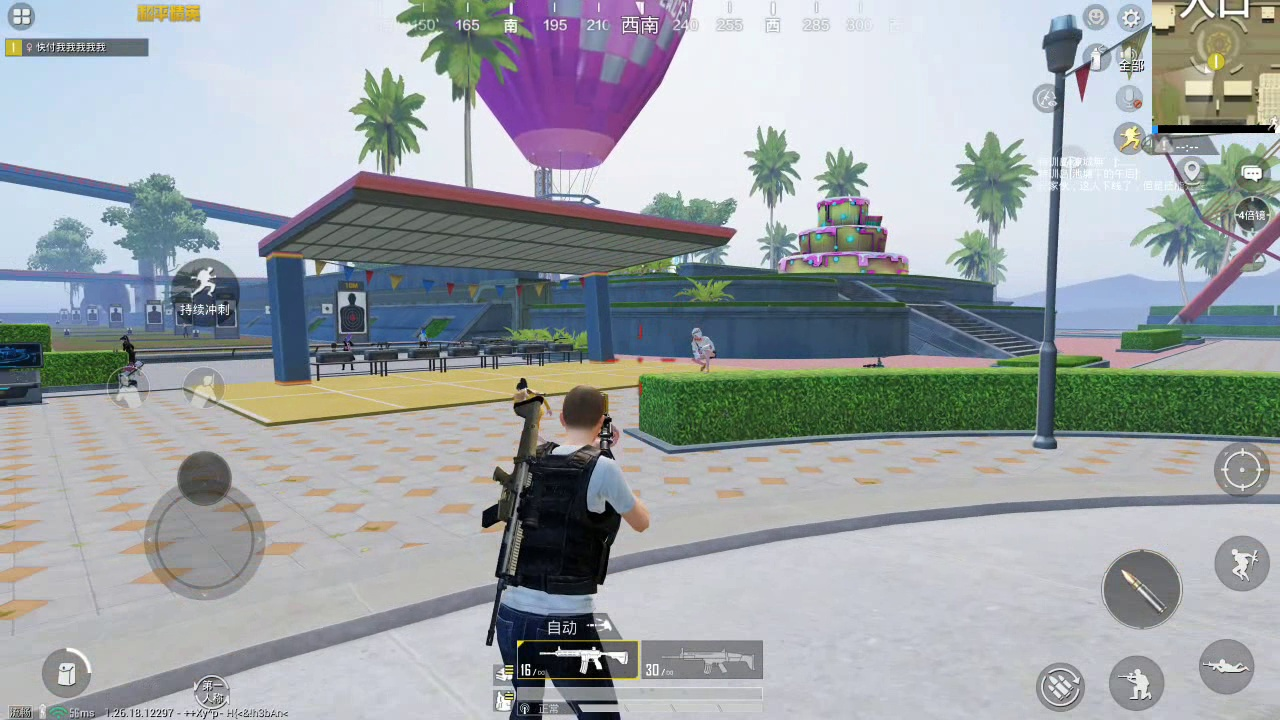enemy: (511, 378, 555, 444), (688, 327, 716, 372), (117, 333, 138, 380)
